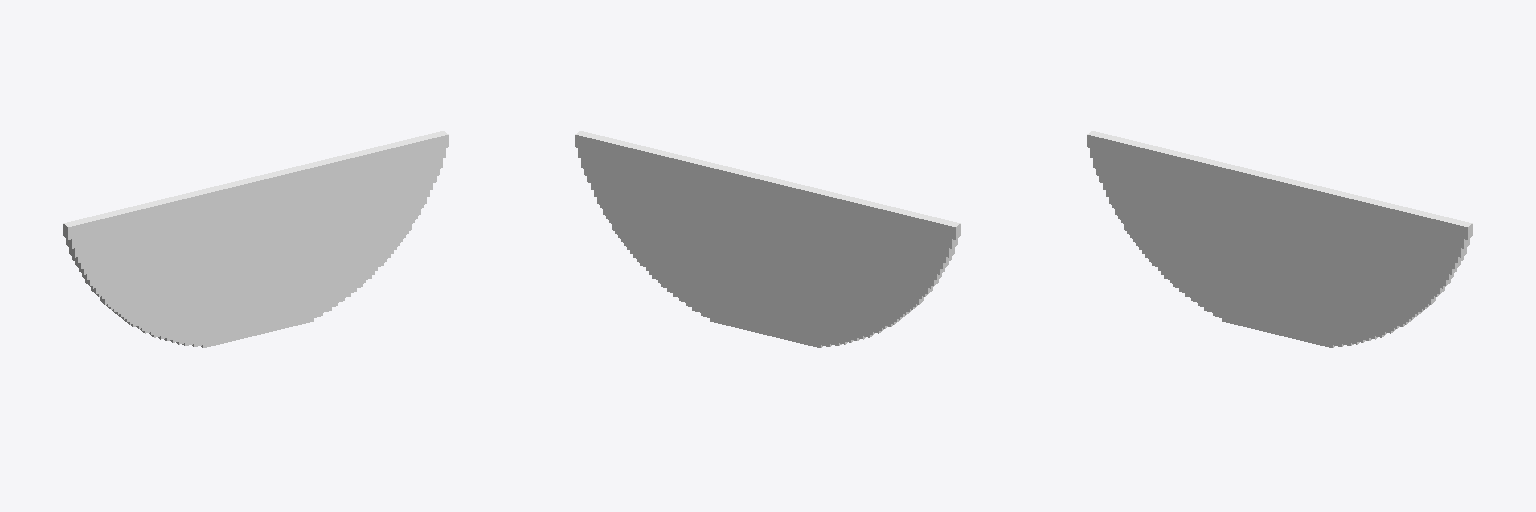
The model's file is hosi.obj.
The picture shows the model from 3 angles: view 1: azimuth 30°, elevation 25°; view 2: azimuth 150°, elevation 25°; view 3: azimuth 330°, elevation 25°; orthographic projection.
Size of the model in its own units: 124 by 48 by 3.